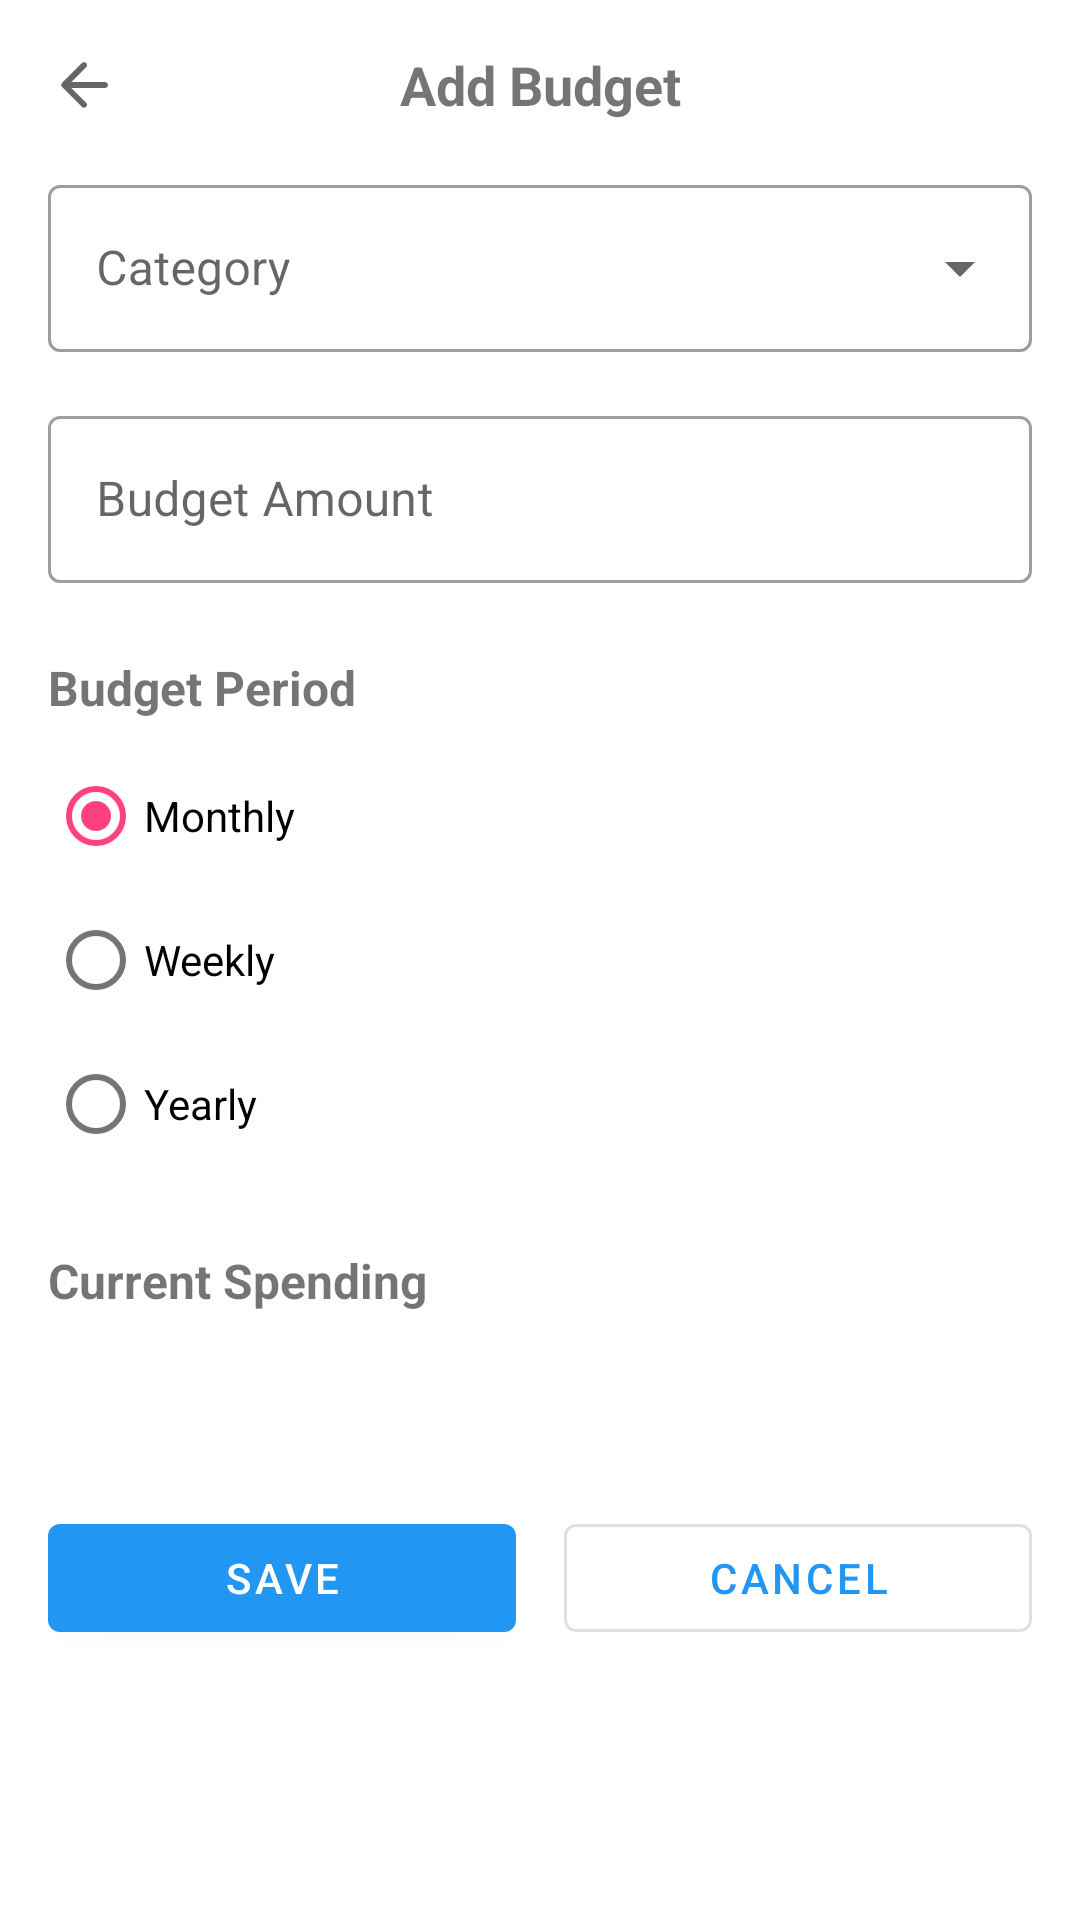

Locate icon controls on the screen. Image size 1080px×1920px, boxes as bbox=[x1, y1, x2, y2].
back: bbox=[61, 62, 108, 108]
